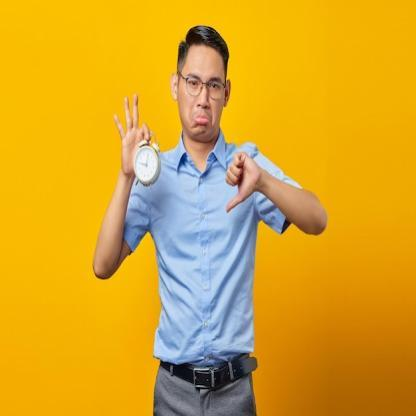thumb_down: (221, 148, 261, 217)
